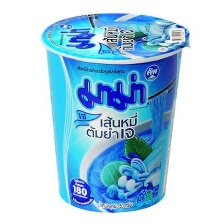paper_cup: (35, 7, 194, 216)
